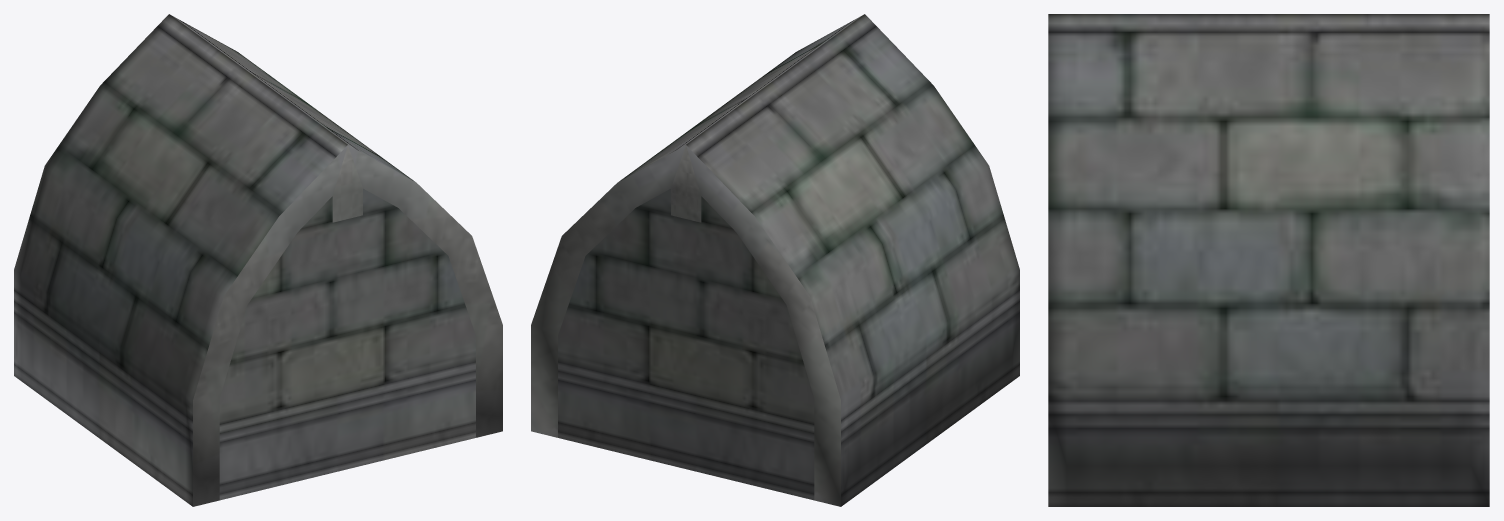
Rendered from sd_barrel_ceiling_small_03.glb.
3 views of the same model, side by side, from view 1: azimuth 30°, elevation 25°; view 2: azimuth 150°, elevation 25°; view 3: azimuth 270°, elevation 25° (orthographic). The views are drawn at different scales.
Visible parts, largest first — view 1: barrel_ceiling_small_03; view 2: barrel_ceiling_small_03; view 3: barrel_ceiling_small_03.
Boxes of the visible parts, left/top/right/bottom form: barrel_ceiling_small_03: left=14, top=14, right=502, bottom=506; barrel_ceiling_small_03: left=531, top=14, right=1019, bottom=506; barrel_ceiling_small_03: left=1048, top=14, right=1489, bottom=506.
Bounding box in the file's own units: 2 × 2 × 2.
Materials: 1 (1 with a texture image).
